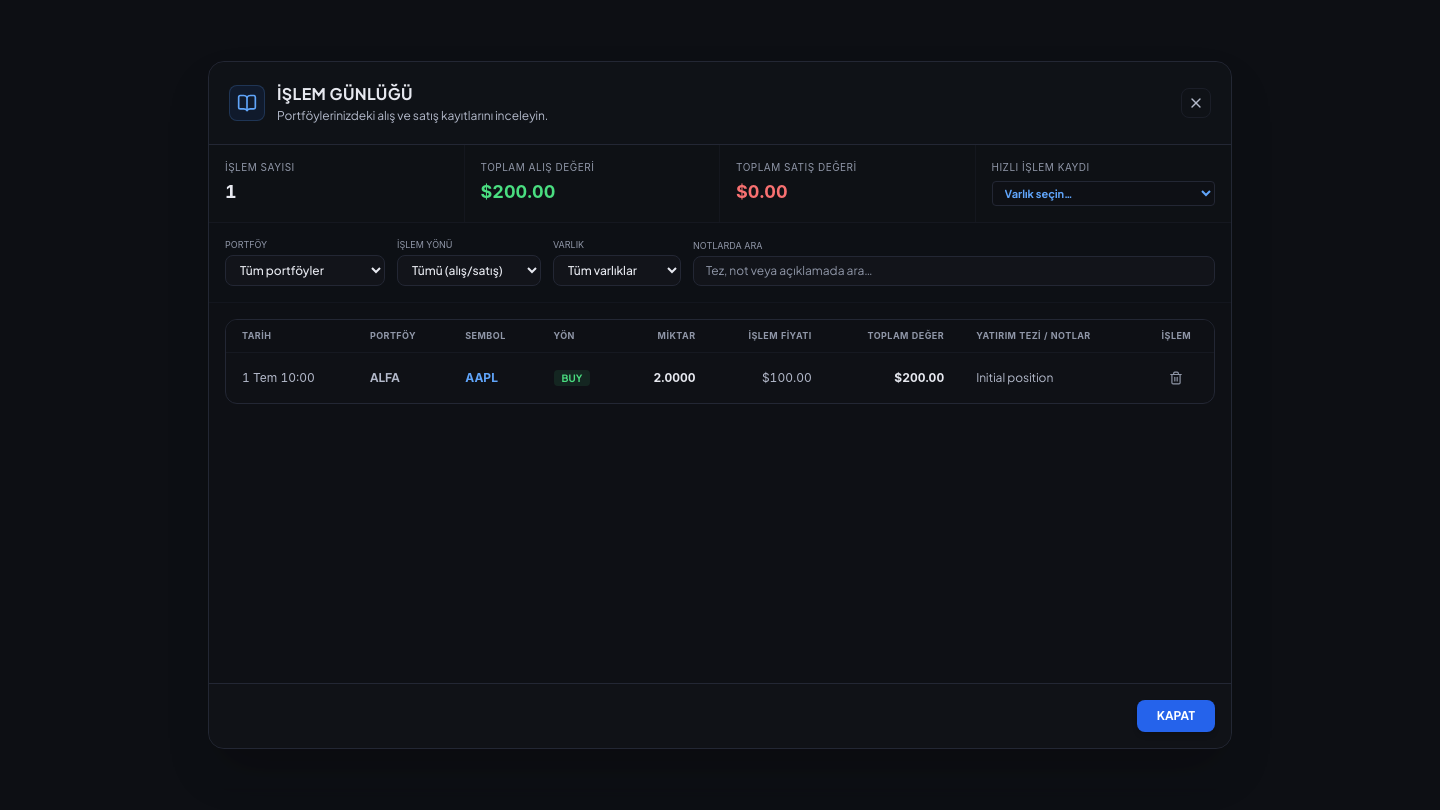
Test: TradingJournalModal › explains when the filters match no records
Type "zzz" into the field labelled "Notlarda ara" at (954, 271), box [693,256,1215,286]
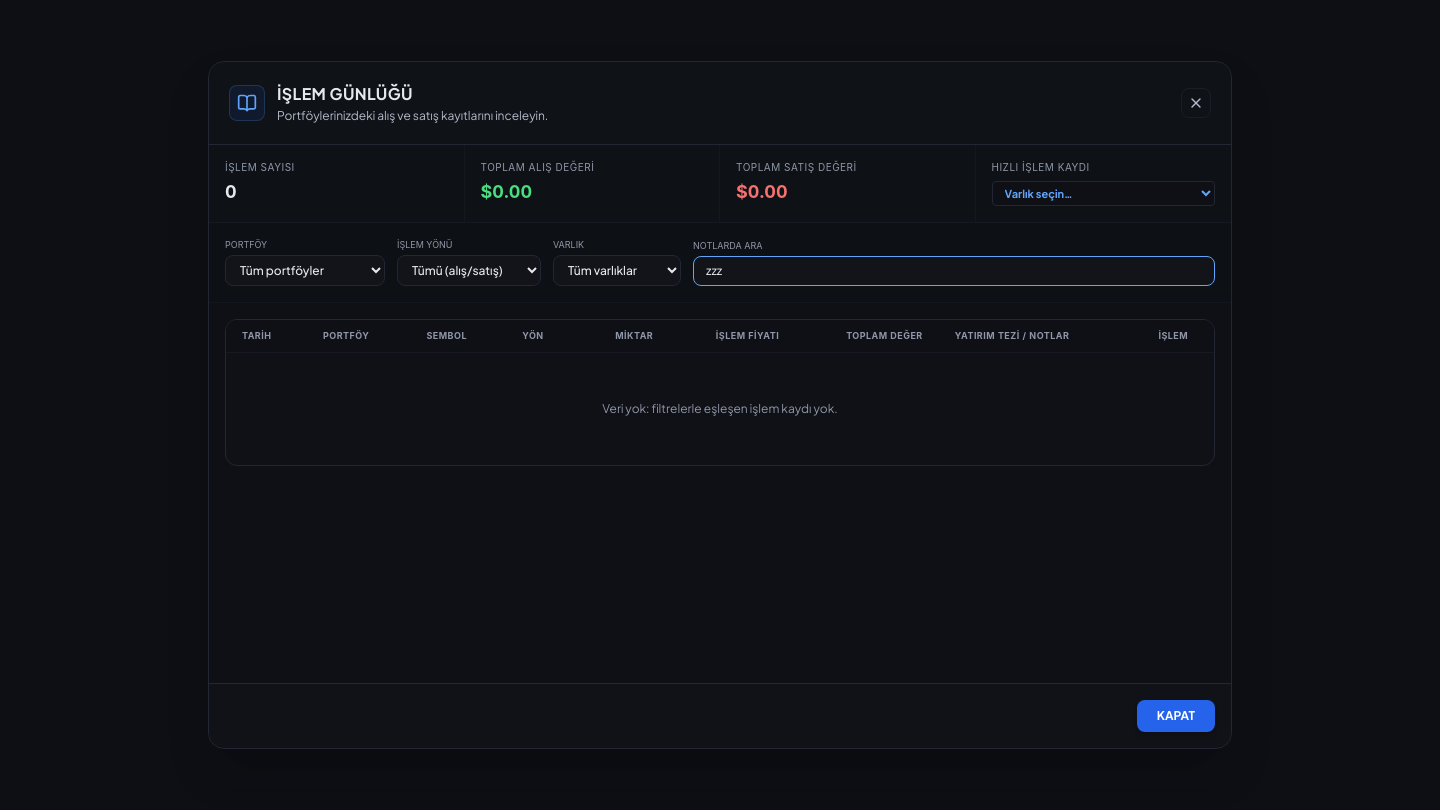
Now the text "Veri yok: filtrelerle eşleşen işlem kaydı yok." is shown, box [226,353,1214,465]
